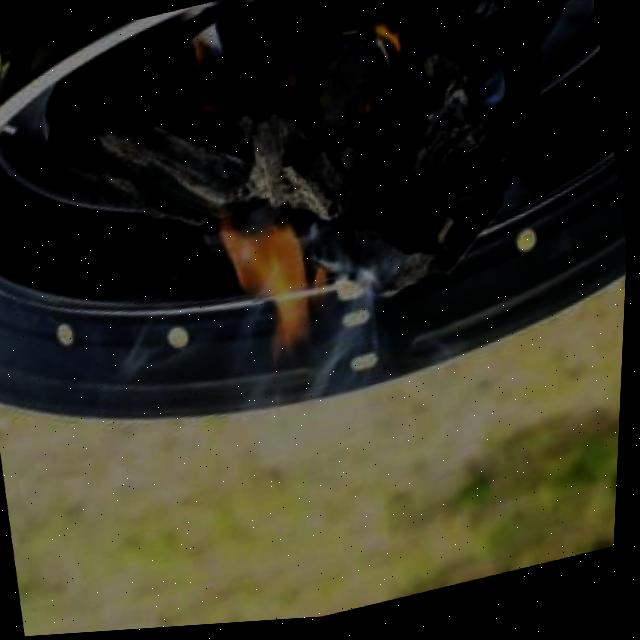Fire: (186, 185, 340, 386)
